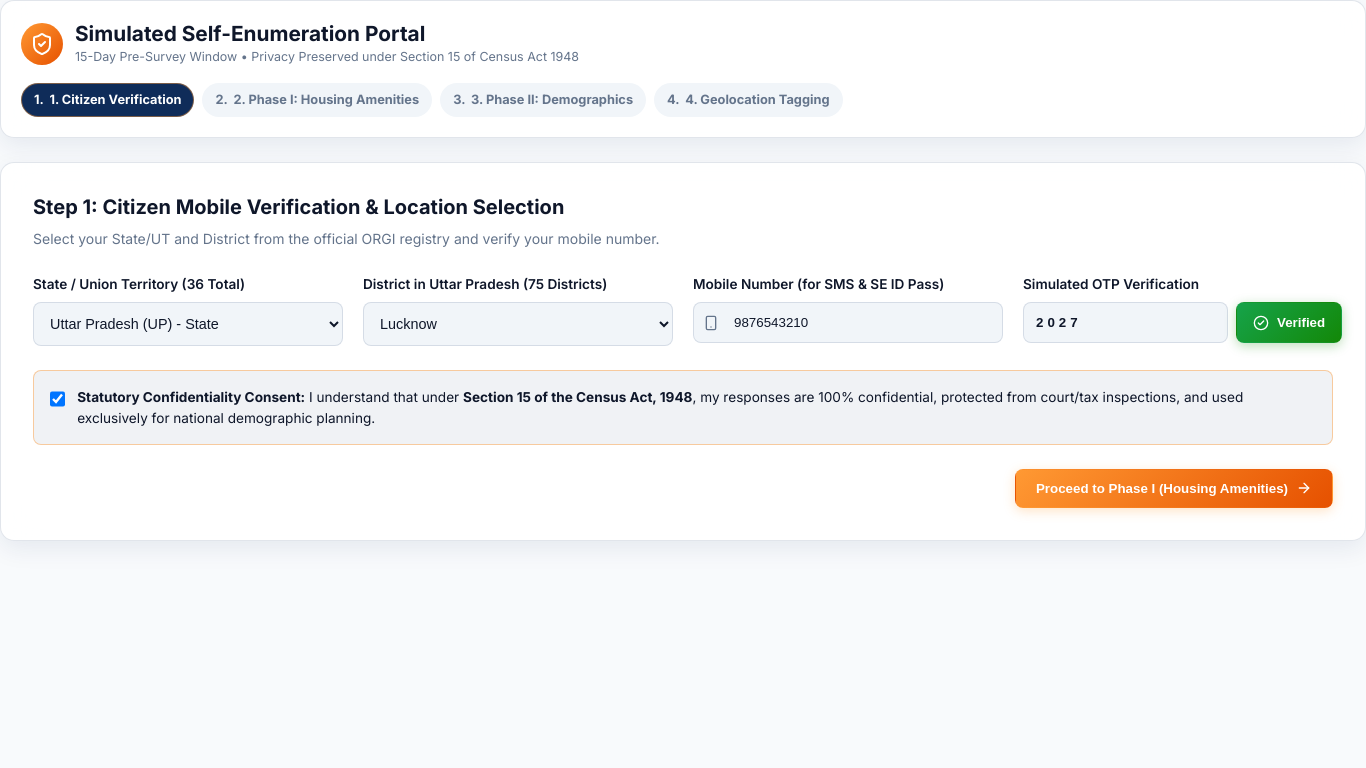
SelfEnumerationWizard Component & Flow › cascades district options when changing State / UT selection
The width and height of the screenshot is (1366, 768).
Select "Maharashtra (MH) - State" in the dropdown labelled "State / Union Territory (36 Total)" at (188, 324), box [33, 302, 343, 346]
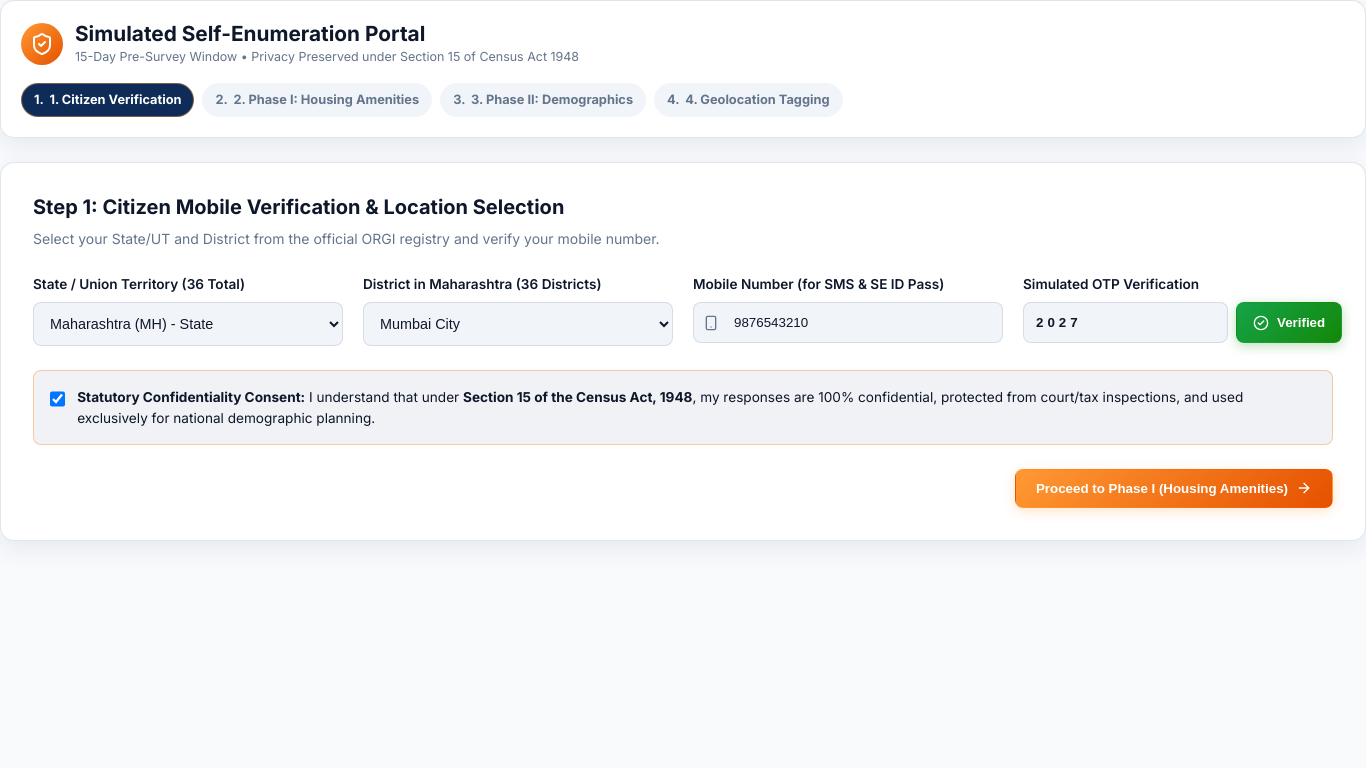
Check: the dropdown labelled "District in Maharashtra (36 Districts)" shows "Mumbai City", box [363, 302, 673, 346]
